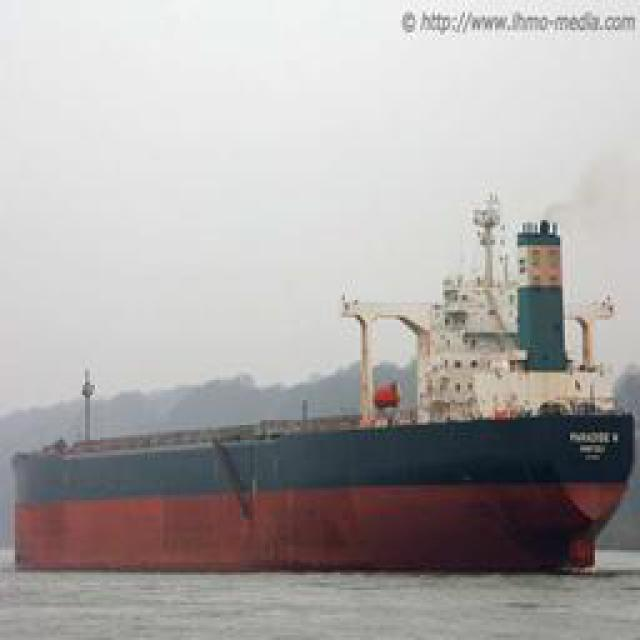Ship: (9, 393, 634, 578)
